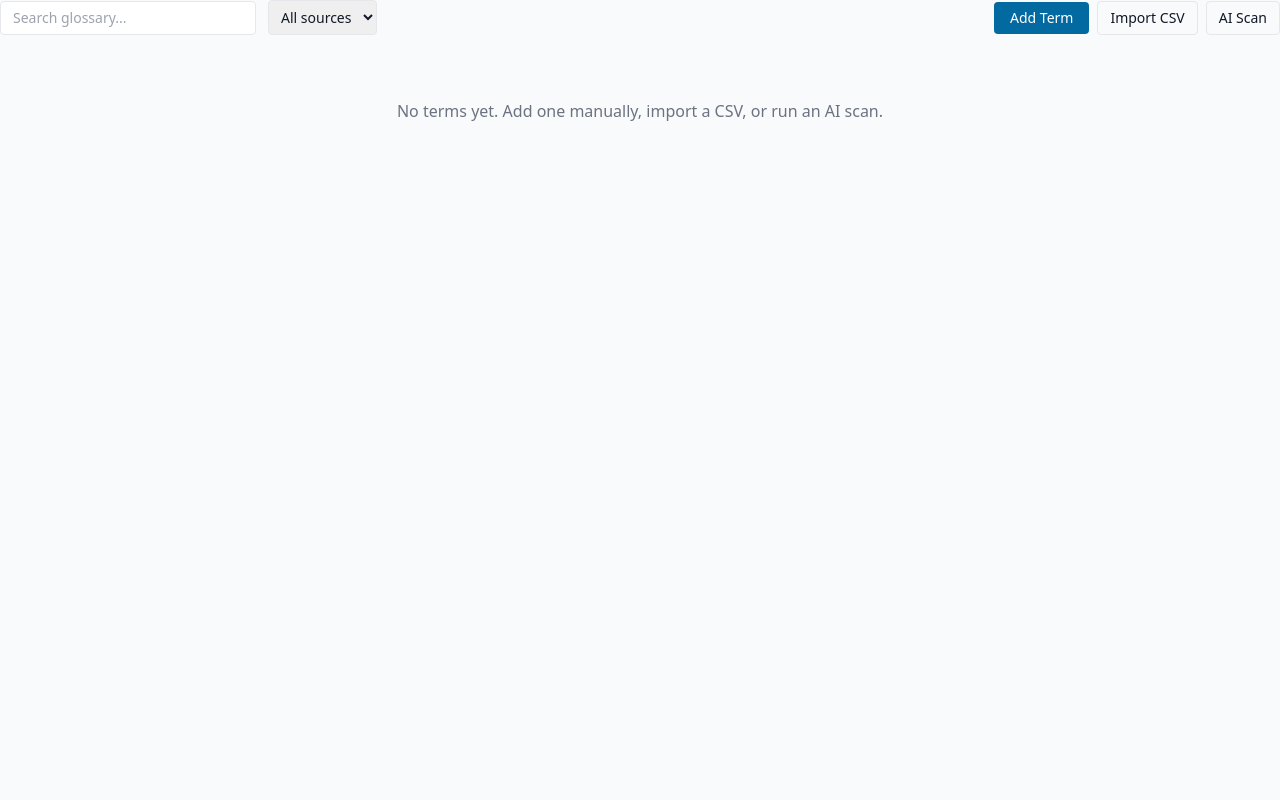
it: shows a running banner while an AI scan is in progress
Expected: the text "No terms yet" is shown, [397, 100, 503, 122]
Click the button "AI Scan": (1243, 18) [1206, 0, 1279, 34]
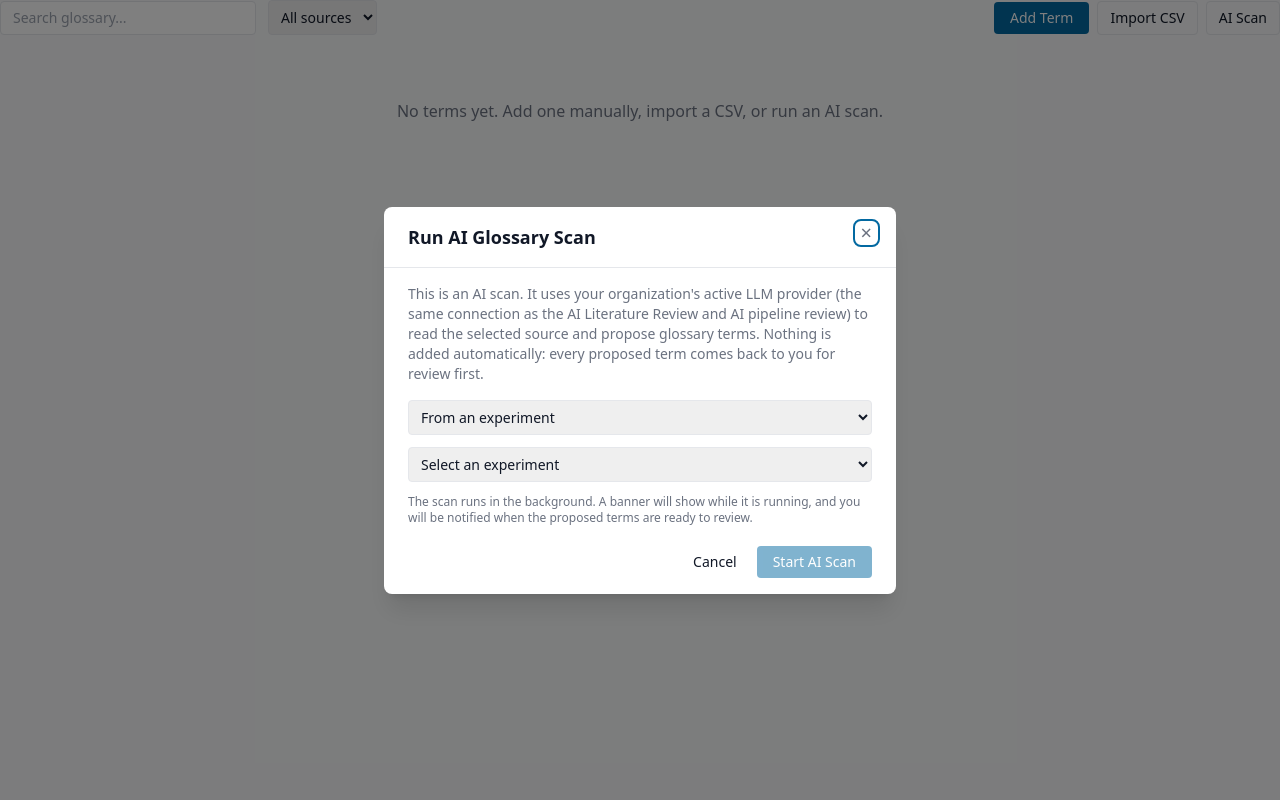
Select "Platform-wide" in the dropdown named "scan type": (640, 417) [408, 400, 872, 434]
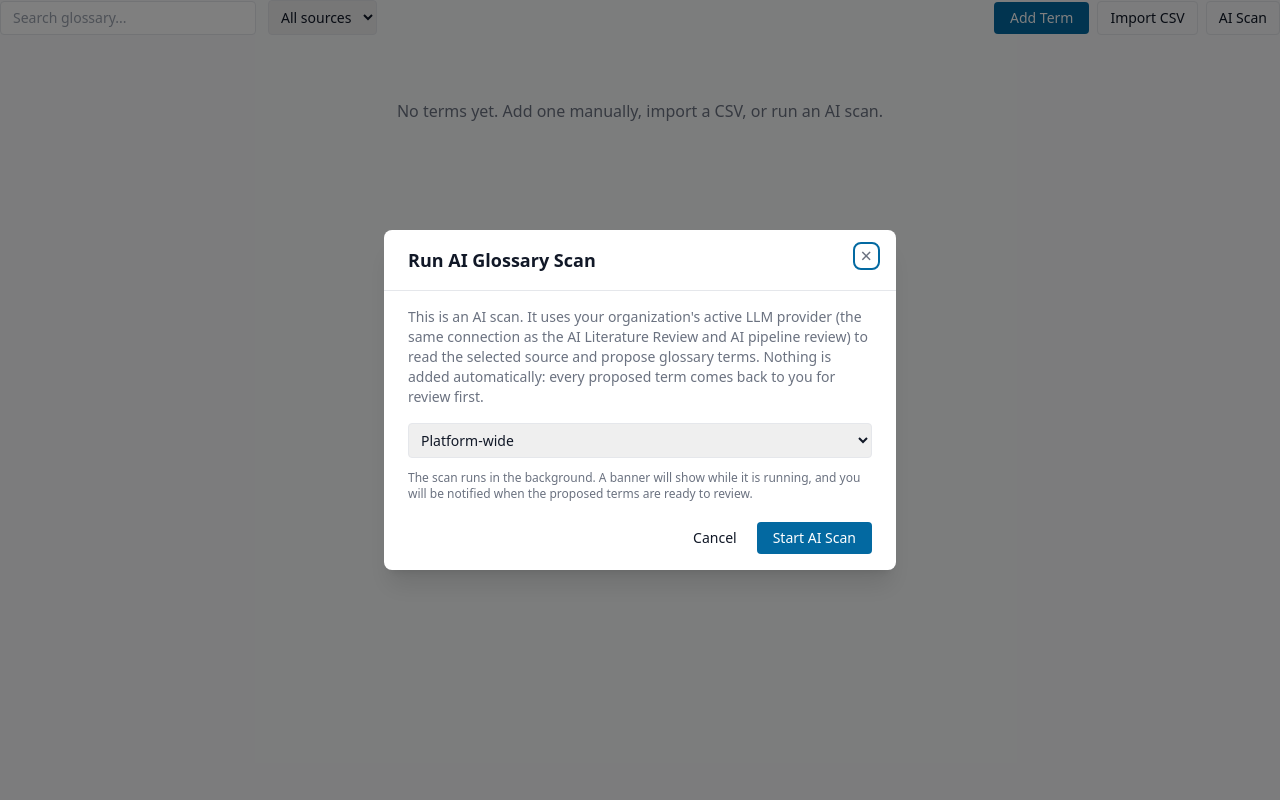
Click the button "Start AI Scan": (814, 538) [757, 522, 872, 554]
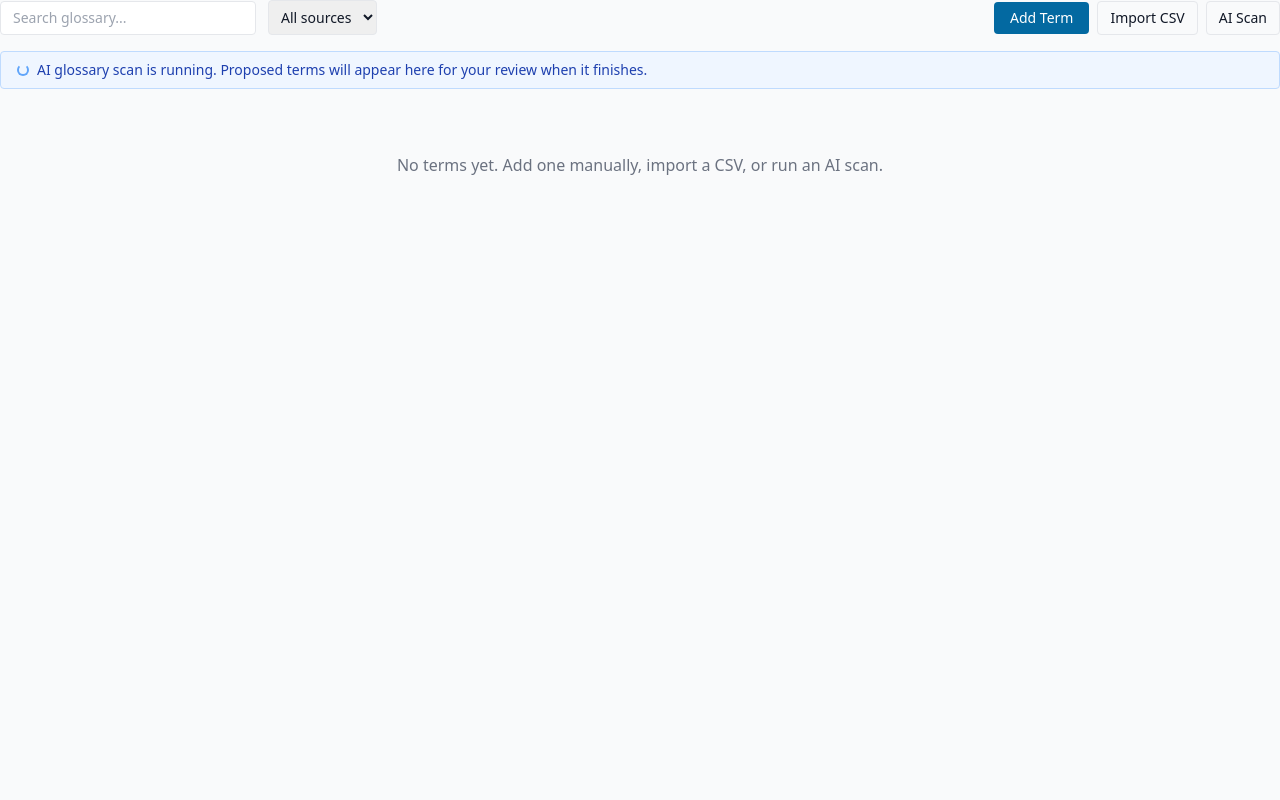
Result: the element with test id "scan-running-banner" is shown at [0, 51, 1279, 89]
